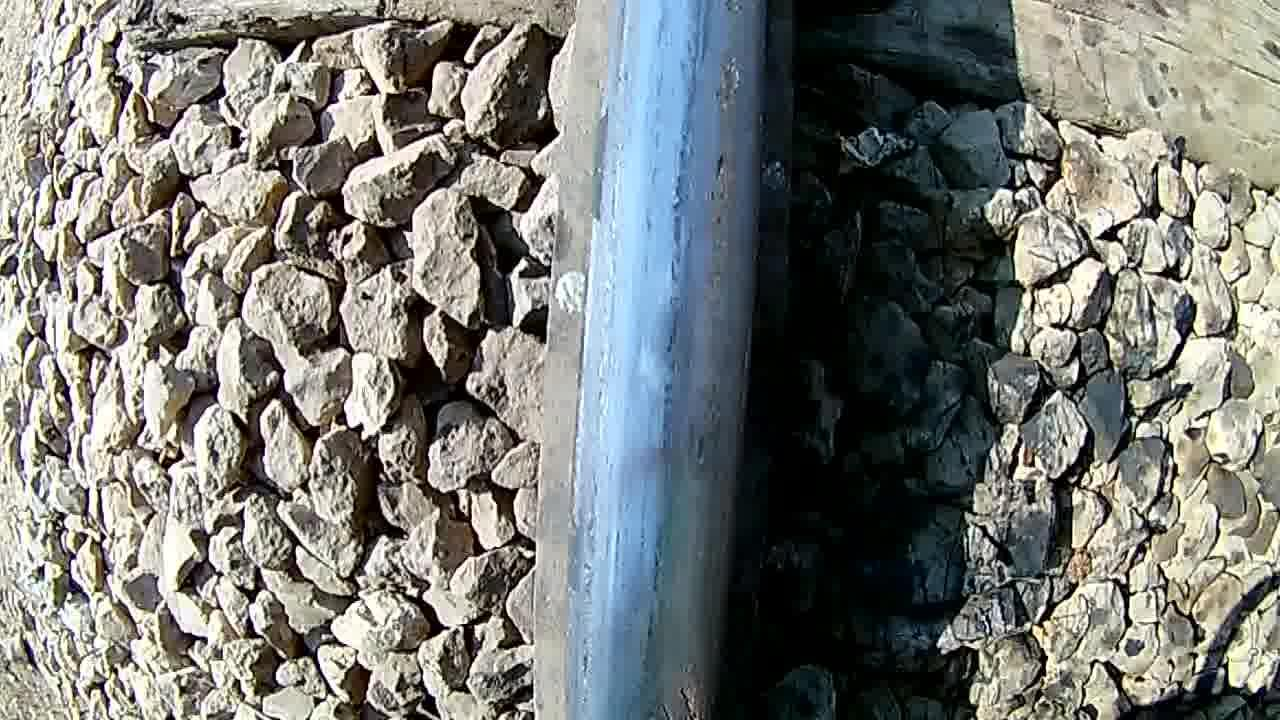crack: (571, 0, 763, 720)
